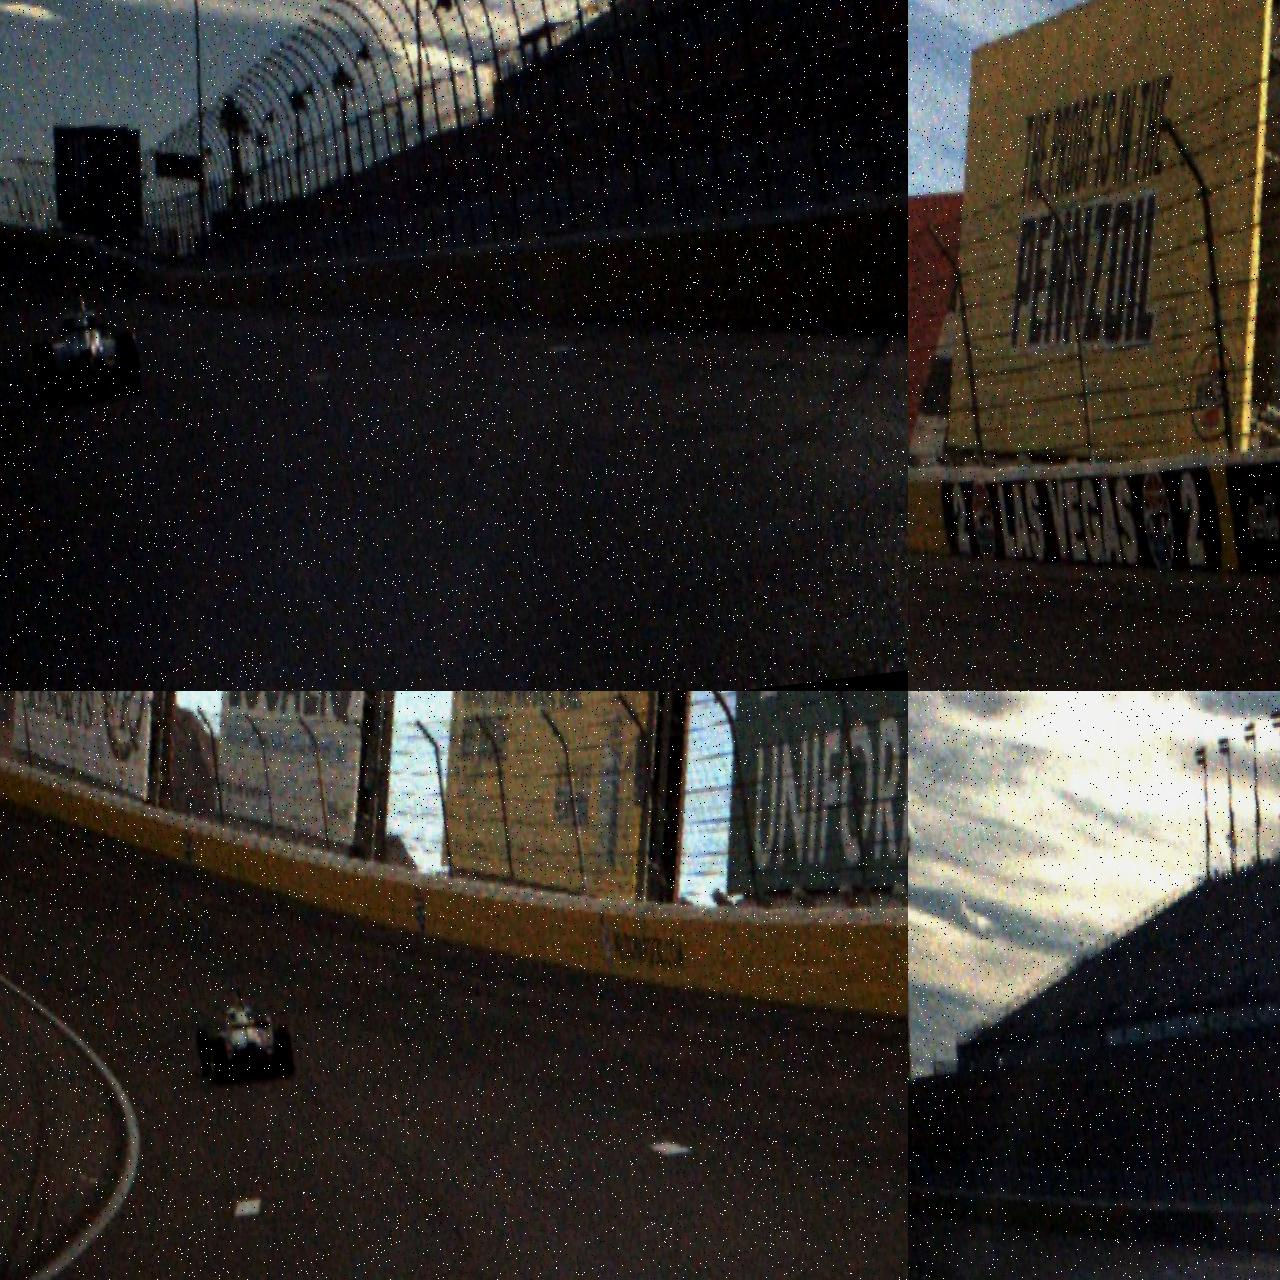AV: (27, 280, 144, 407), (190, 982, 297, 1088)
Wheel: (115, 331, 143, 397), (34, 342, 61, 407), (272, 1024, 297, 1080), (207, 1036, 231, 1087), (195, 1027, 215, 1078)
